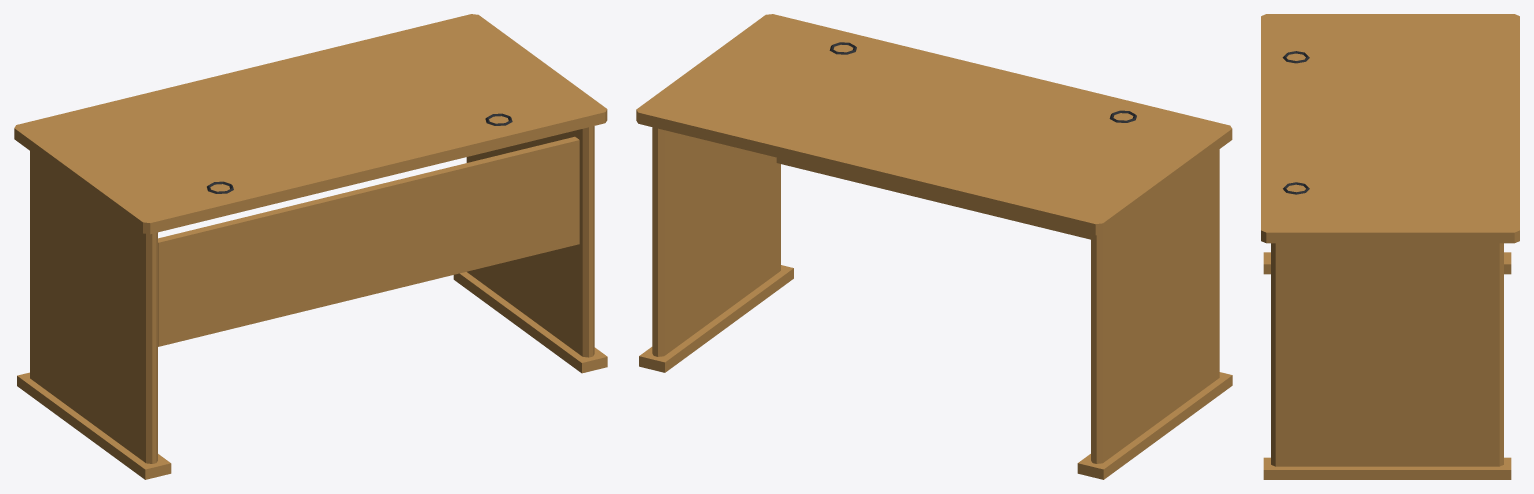
Rendered from SM_LPI_Office_Desk_01.fbx.
The picture shows the model from 3 angles, left to right: view 1: azimuth 30°, elevation 25°; view 2: azimuth 150°, elevation 25°; view 3: azimuth 270°, elevation 25°; orthographic projection. The views are drawn at different scales.
Parts seen in each view (by area): view 1: SM_LPI_Office_Desk_01; view 2: SM_LPI_Office_Desk_01; view 3: SM_LPI_Office_Desk_01.
Boxes of the visible parts, bbox=[...] form: SM_LPI_Office_Desk_01: bbox=[14, 14, 607, 479]; SM_LPI_Office_Desk_01: bbox=[636, 14, 1232, 479]; SM_LPI_Office_Desk_01: bbox=[1261, 14, 1519, 479].
Size of the model in its own units: 1.4 by 0.745 by 0.7.
